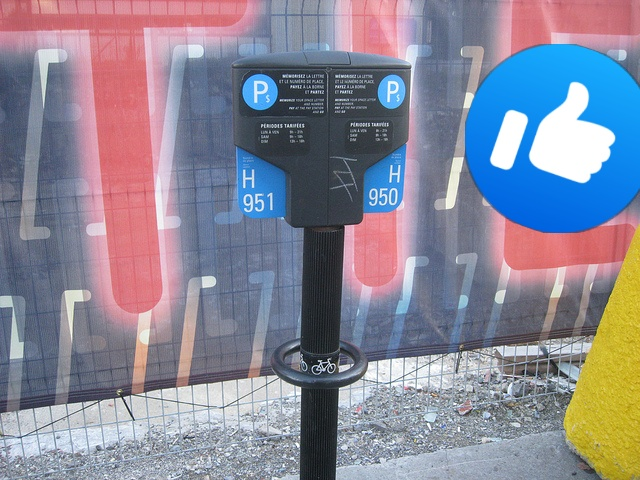like: (465, 44, 640, 233)
